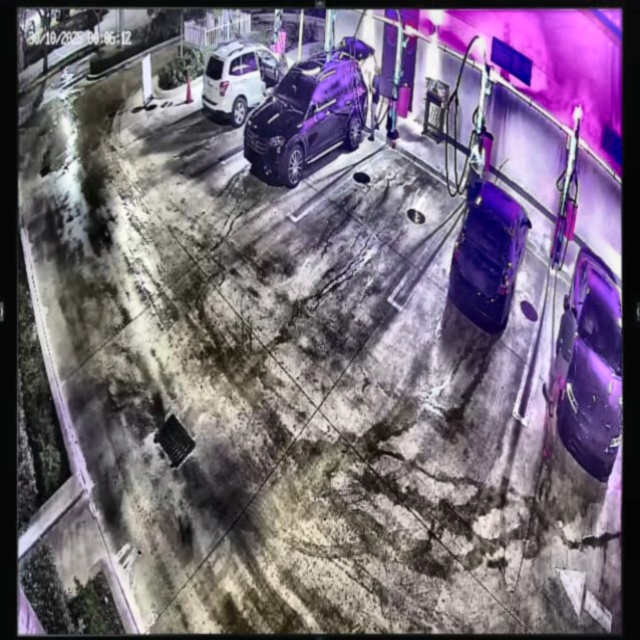Car: (241, 51, 372, 191), (452, 183, 532, 332)
